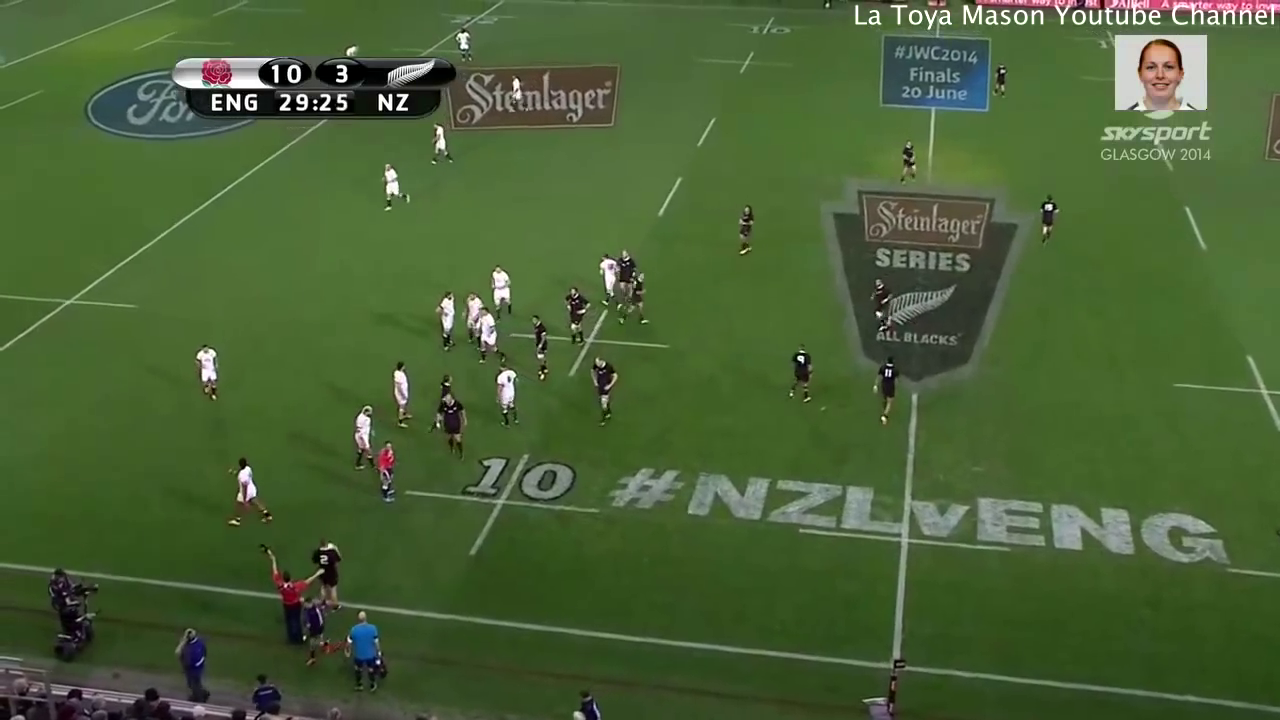10_metre: (399, 443, 606, 566), (493, 300, 678, 381), (1159, 342, 1280, 440), (684, 41, 798, 84), (715, 9, 815, 41)
ball: (325, 539, 339, 551)
player: (217, 444, 277, 535), (307, 530, 352, 616), (583, 348, 624, 433), (424, 282, 461, 359), (779, 340, 819, 411), (341, 400, 377, 475), (616, 263, 655, 331), (491, 360, 527, 433), (187, 334, 221, 411), (869, 349, 900, 431), (482, 262, 519, 324), (368, 436, 399, 509), (439, 392, 471, 462), (427, 370, 459, 440), (559, 282, 591, 351), (375, 160, 413, 218), (606, 240, 635, 314), (388, 360, 416, 434), (476, 301, 508, 365), (527, 309, 553, 382), (868, 273, 898, 336), (459, 286, 486, 353), (730, 201, 760, 260), (1035, 190, 1062, 248), (596, 250, 621, 312), (427, 120, 458, 168), (896, 139, 921, 193), (985, 55, 1012, 105), (503, 68, 528, 113), (454, 24, 475, 64)
